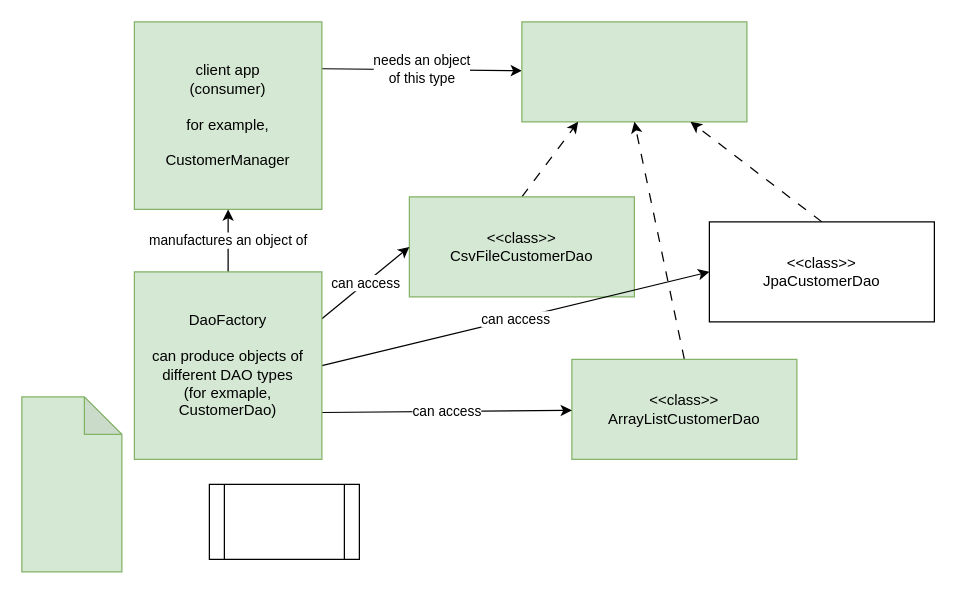
Some shapes in this 956 by 594 pixel diagram are drawn without their labels. Here are the shapes that lost their labels. From the top down, the centre of each, then its label:
At point (634, 71): "<<interface>> CustomerDao".
At point (71, 484): "config file (properties or xml or json or yaml file)".
At point (283, 521): "environment variables".
